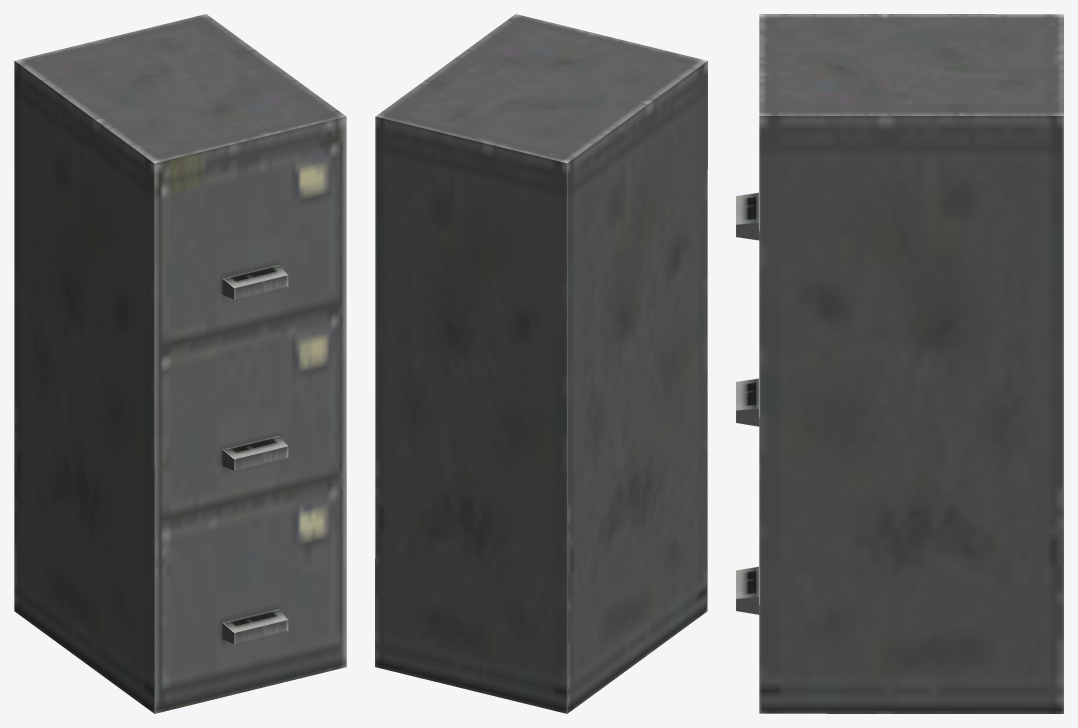
The model's file is Filing_Cabinet.glb.
3 renders of one model, left to right at view 1: azimuth 30°, elevation 25°; view 2: azimuth 150°, elevation 25°; view 3: azimuth 270°, elevation 25°, orthographic. The views are drawn at different scales.
Visible parts, largest first — view 1: FILING_CABINET; view 2: FILING_CABINET; view 3: FILING_CABINET.
Boxes of the visible parts, box(x1,y1,x2,y2) form: FILING_CABINET: box(14, 14, 346, 713); FILING_CABINET: box(375, 14, 707, 713); FILING_CABINET: box(736, 14, 1063, 713).
Size of the model in its own units: 0.476 by 1.3 by 0.646.
1 material, 1 textured.
